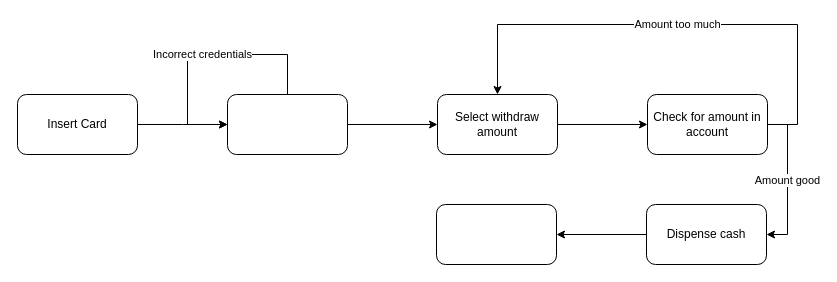
Some shapes in this 837 by 282 pixel diagram are drawn without their labels. The box of each missing label's shape, as (x1, y1, x2, y2) in pixels:
Dispense card: (436, 204, 556, 264)
Enter credentials: (226, 94, 348, 154)
